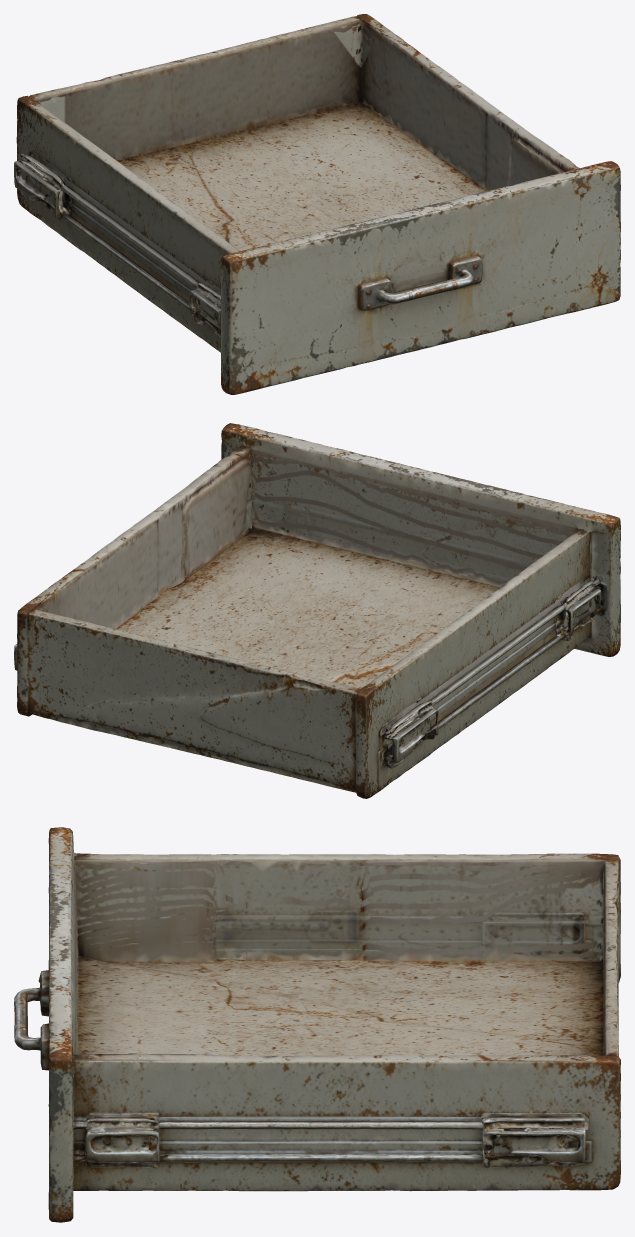
File: CabinetDrawer.fbx
The picture shows the model from 3 angles, top to bottom: view 1: azimuth 30°, elevation 25°; view 2: azimuth 150°, elevation 25°; view 3: azimuth 270°, elevation 25°; orthographic projection. The views are drawn at different scales.
Visible parts, largest first — view 1: texture_mapping; view 2: texture_mapping; view 3: texture_mapping.
Part boxes in pixels (<box>): texture_mapping: <box>14,14,620,394</box>; texture_mapping: <box>14,423,620,798</box>; texture_mapping: <box>14,827,620,1222</box>.
Bounding box in the file's own units: 0.9066 × 0.9978 × 0.2994.
1 material, 1 textured.
